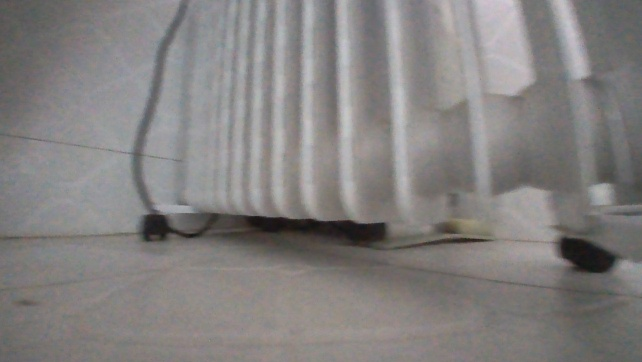wire: (164, 212, 218, 240)
